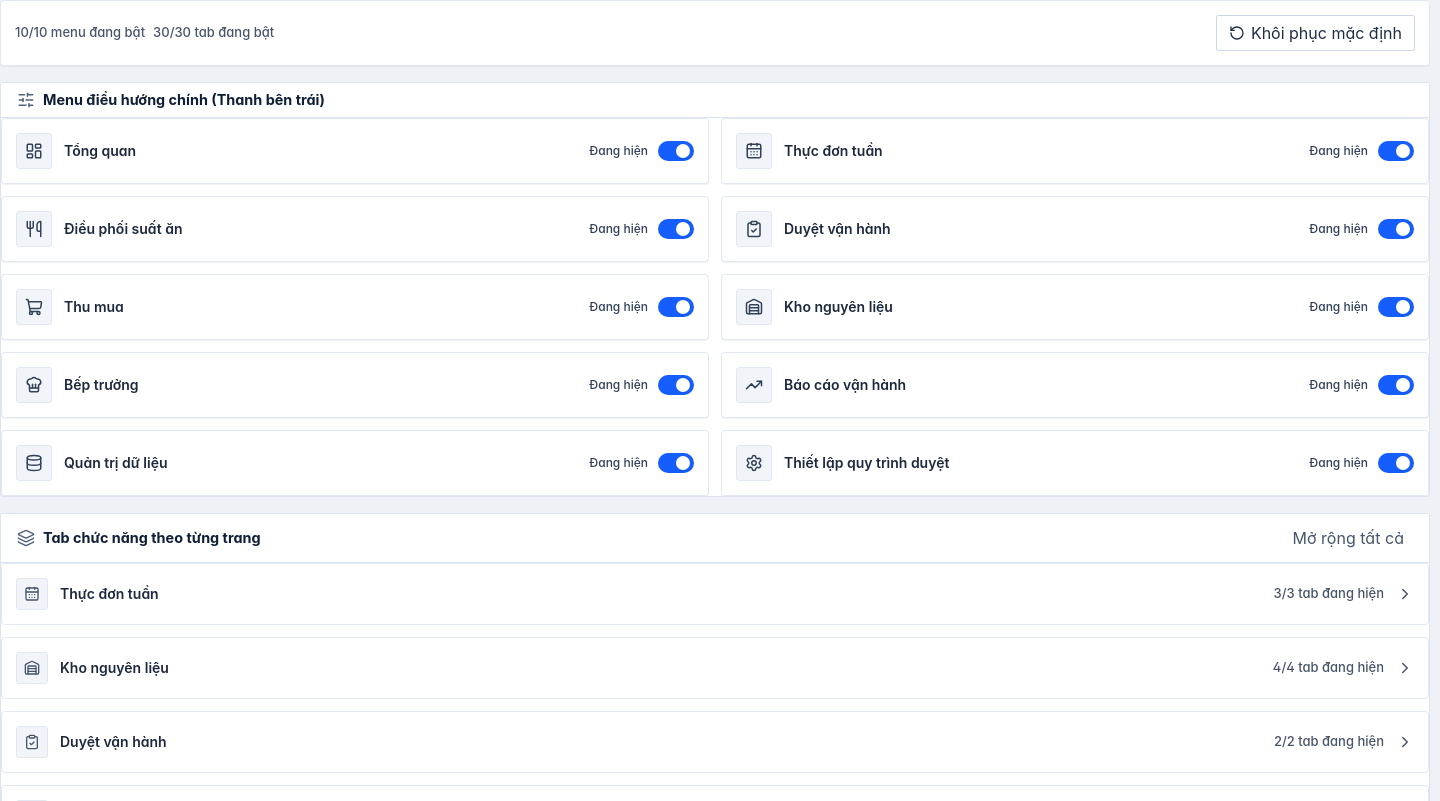
AdvancedDisplaySettings Component › shows confirmation dialog on "Khôi phục mặc định" and resets on confirm
Disable one nav item
Click the switch named "Tổng quan, đang hiện": click(34, 151) top-left (1, 118), bottom-right (709, 184)
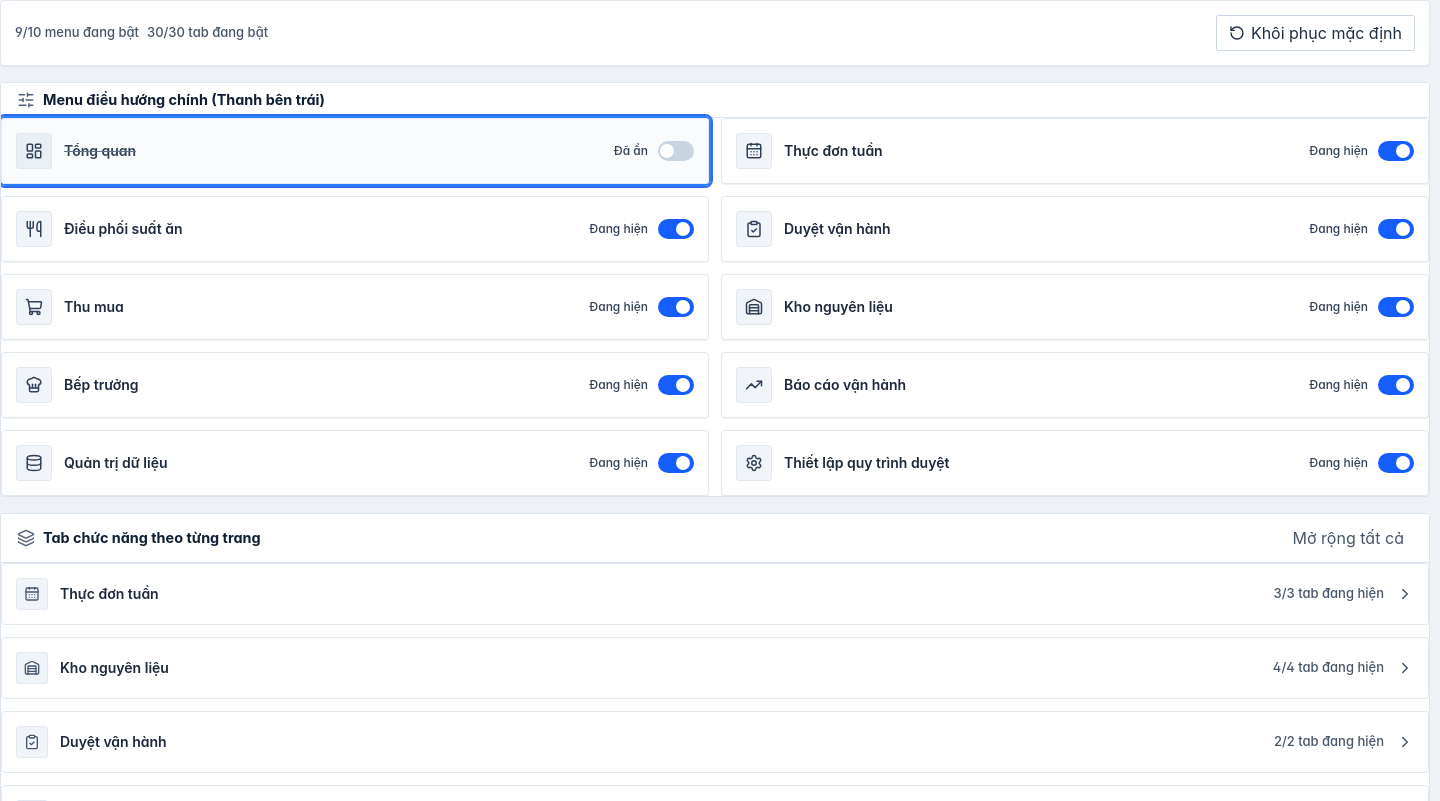
expect the text "9/10 menu đang bật" is shown: met, box top-left (15, 24), bottom-right (139, 42)
Click the button "Khôi phục mặc định": click(1315, 33) top-left (1216, 15), bottom-right (1415, 51)
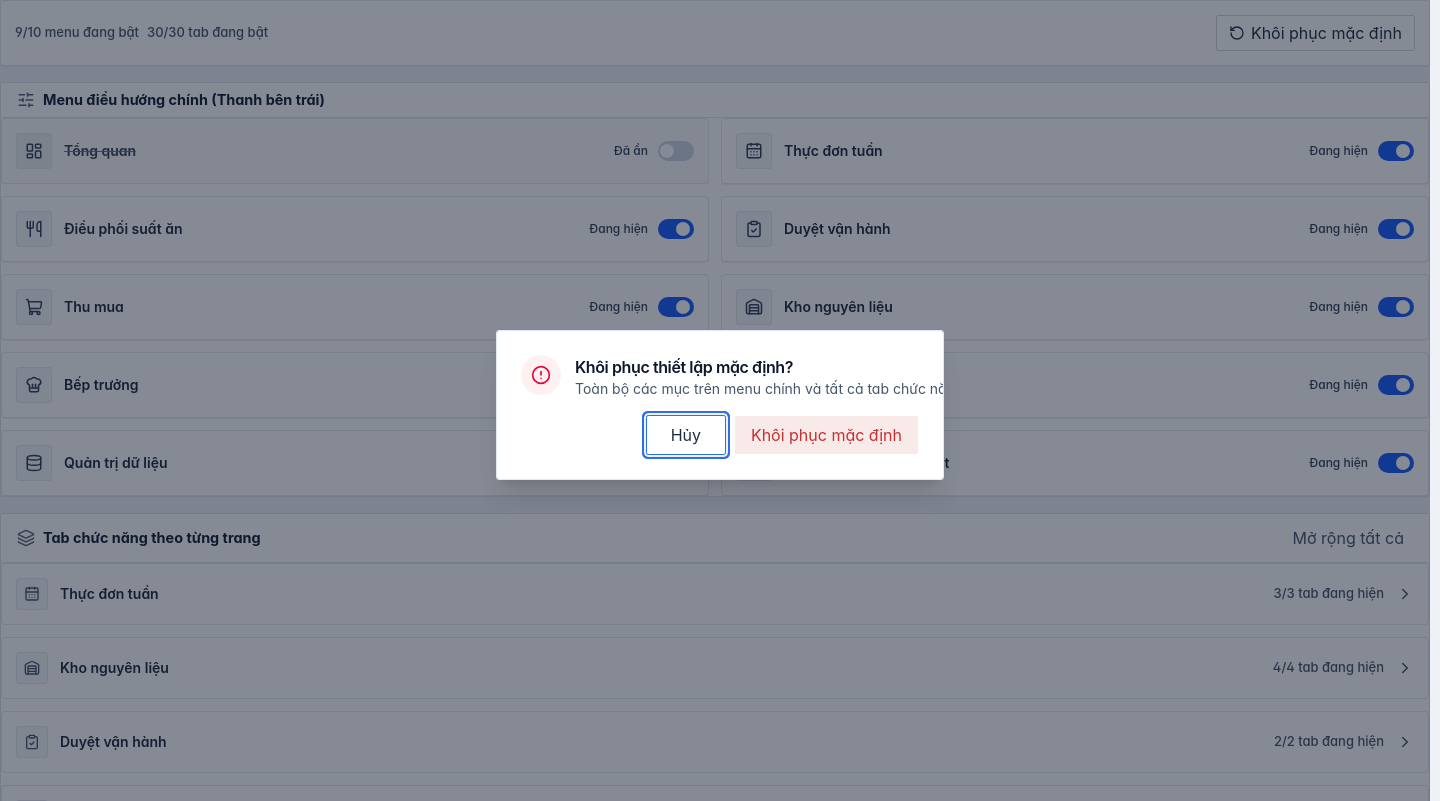
expect the heading "Khôi phục thiết lập mặc định?" is shown: met, box top-left (575, 357), bottom-right (793, 377)
expect the text "Toàn bộ các mục trên menu chính và tất cả tab chức năng sẽ được hiển thị lại đầy đủ." is shown: met, box top-left (575, 380), bottom-right (944, 397)
Test cancelling
Click the button "Hủy": click(686, 435) top-left (646, 415), bottom-right (726, 455)
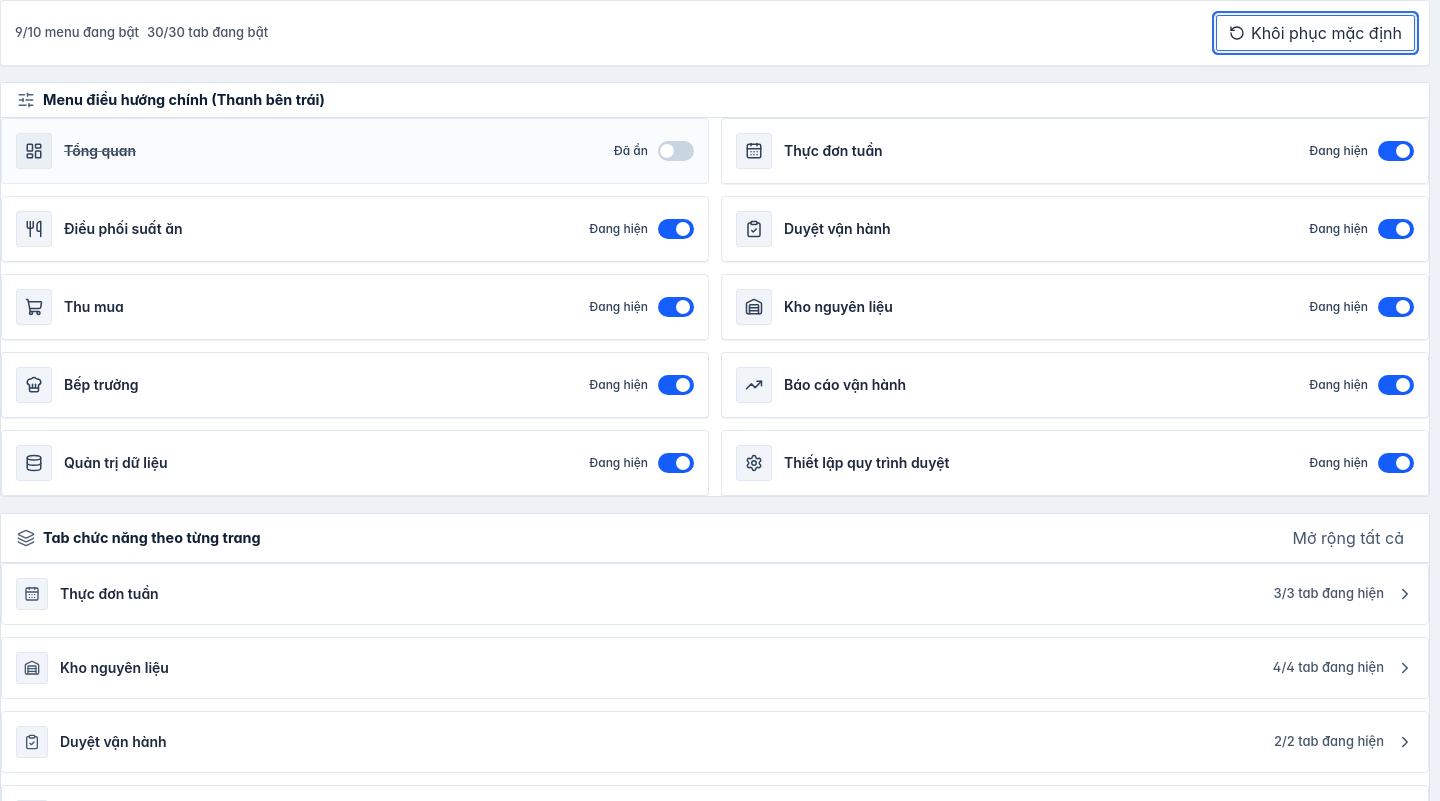
expect the text "9/10 menu đang bật" is shown: met, box top-left (15, 24), bottom-right (139, 42)
Reopen and confirm
Click the button "Khôi phục mặc định": click(1315, 33) top-left (1216, 15), bottom-right (1415, 51)
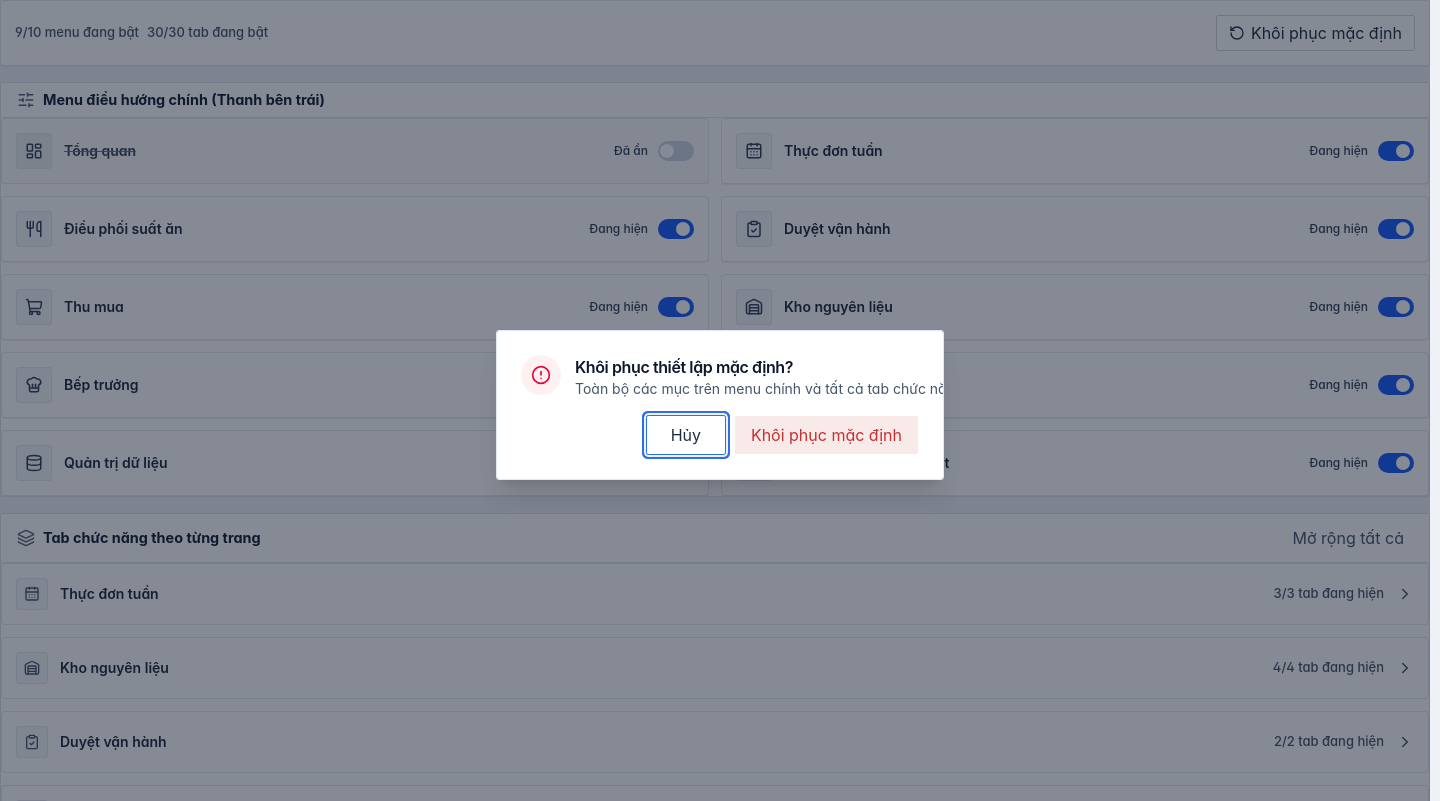
Click the button "Khôi phục mặc định": click(826, 435) top-left (734, 415), bottom-right (919, 455)
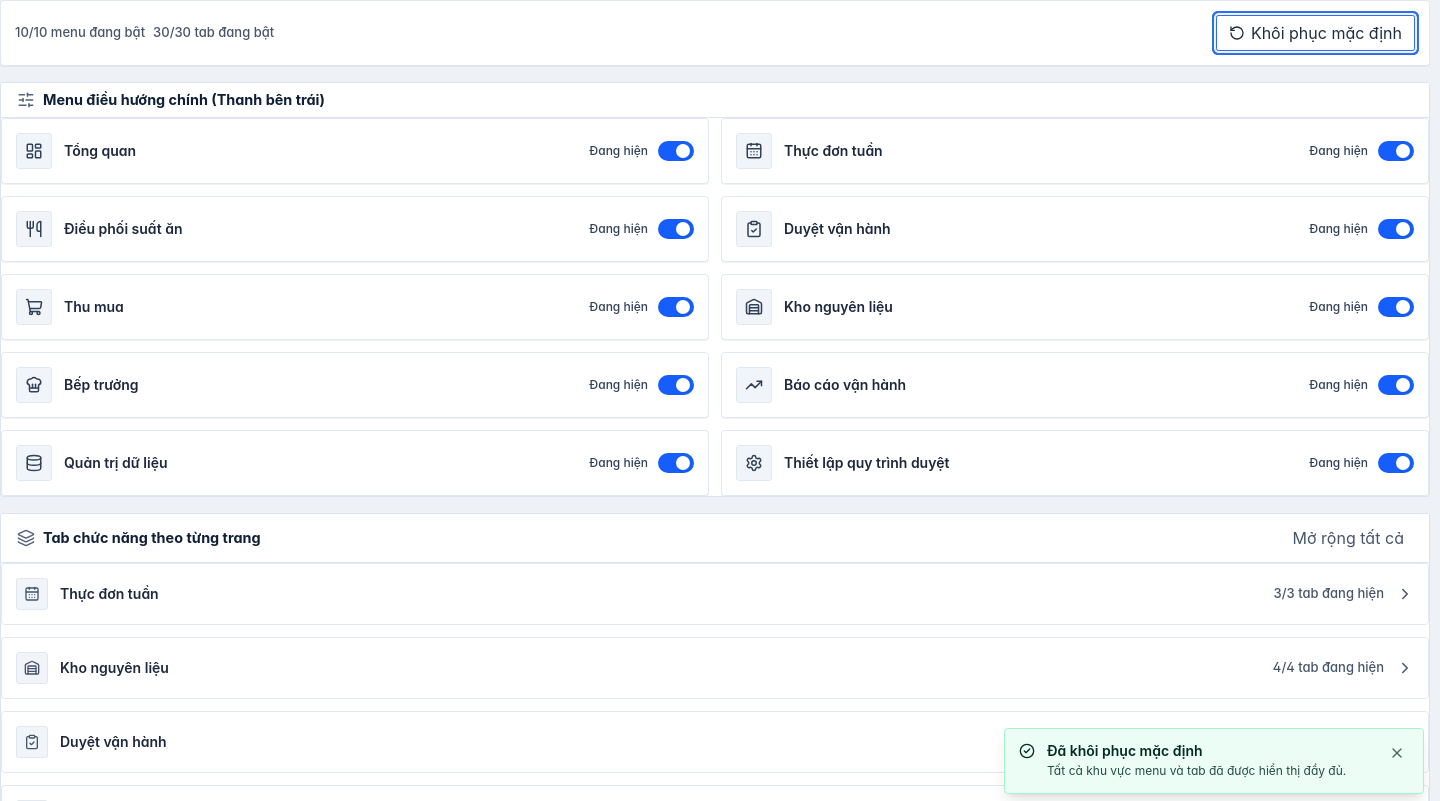
expect the text "10/10 menu đang bật" is shown: met, box top-left (15, 24), bottom-right (145, 42)
expect the text "Đã khôi phục mặc định" is shown: met, box top-left (1047, 742), bottom-right (1203, 759)
